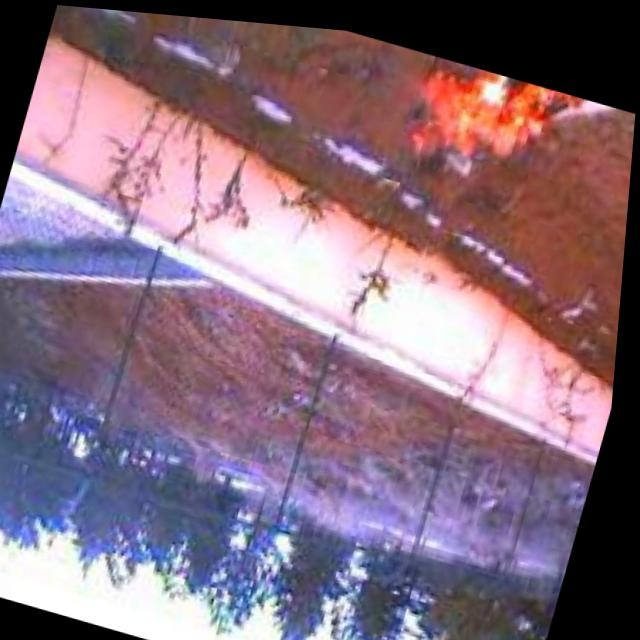Fire: (404, 45, 590, 184)
